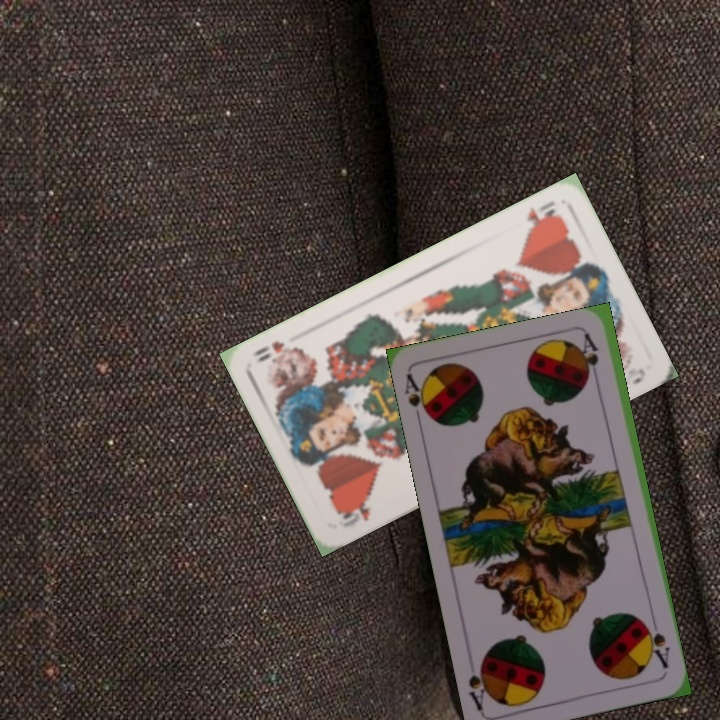HO: (521, 196, 563, 236), (334, 494, 373, 530)
SA: (401, 370, 436, 428), (640, 617, 673, 672)
